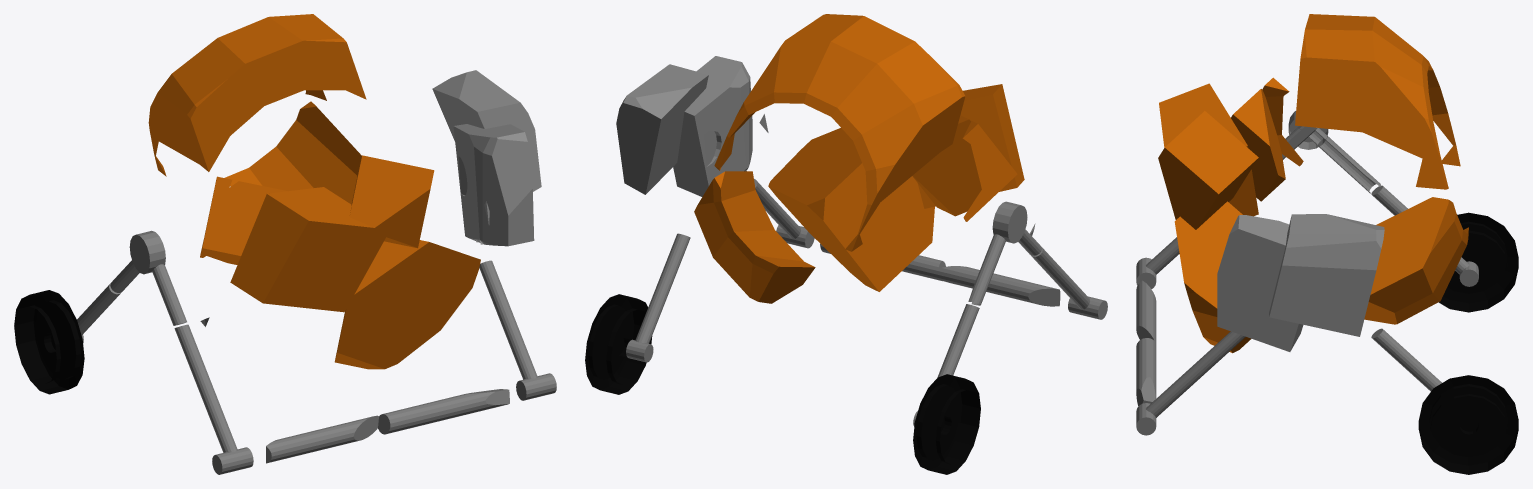
Rendered from Destroyed Cement Mixer.fbx.
3 views of the same model, side by side, from view 1: azimuth 30°, elevation 25°; view 2: azimuth 150°, elevation 25°; view 3: azimuth 270°, elevation 25° (orthographic). The views are drawn at different scales.
Parts seen in each view (by area): view 1: Cube.033, Cube.055, Cube.052, Cube.029, Cube.031, Cube.009, Cube.054, Cube.030, Cube.053, Cube.024, Cube.027, Cube.025 (+3 smaller); view 2: Cube.033, Cube.052, Cube.031, Cube.030, Cube.029, Cube.053, Cube.009, Cube.021, Cube.055, Cube.028, Cube.022, Cube.026 (+4 smaller); view 3: Cube.033, Cube.030, Cube.031, Cube.021, Cube.029, Cube.054, Cube.052, Cube.009, Cube.053, Cube.055, Cube.025, Cube.028 (+5 smaller).
Boxes of the visible parts, box(x1,y1,x2,y2) form: Cube.033: box(148, 14, 366, 176); Cube.055: box(230, 187, 385, 312); Cube.052: box(334, 240, 480, 369); Cube.029: box(453, 124, 534, 246); Cube.031: box(225, 101, 361, 204); Cube.009: box(14, 290, 84, 394); Cube.054: box(349, 155, 434, 248); Cube.030: box(432, 70, 541, 191); Cube.053: box(200, 176, 287, 264); Cube.024: box(174, 317, 253, 474); Cube.027: box(378, 389, 509, 434); Cube.025: box(479, 260, 556, 400); Cube.033: box(714, 14, 965, 251); Cube.052: box(768, 128, 934, 291); Cube.031: box(694, 171, 815, 303); Cube.030: box(616, 64, 708, 194); Cube.029: box(673, 56, 768, 196); Cube.053: box(912, 115, 1017, 221); Cube.009: box(913, 374, 980, 474); Cube.021: box(585, 294, 652, 394); Cube.055: box(917, 84, 1024, 208); Cube.028: box(968, 201, 1041, 305); Cube.022: box(626, 233, 690, 362); Cube.026: box(938, 266, 1060, 306); Cube.033: box(1295, 14, 1460, 189); Cube.030: box(1269, 214, 1384, 336); Cube.031: box(1364, 197, 1468, 324); Cube.021: box(1418, 375, 1518, 474); Cube.029: box(1217, 215, 1303, 351); Cube.054: box(1158, 111, 1258, 229); Cube.052: box(1174, 201, 1251, 353); Cube.009: box(1438, 212, 1518, 312); Cube.053: box(1231, 77, 1303, 201); Cube.055: box(1159, 83, 1258, 216); Cube.025: box(1136, 331, 1245, 435); Cube.028: box(1282, 111, 1380, 193).
Bounding box in the file's own units: 506 × 441 × 425.
